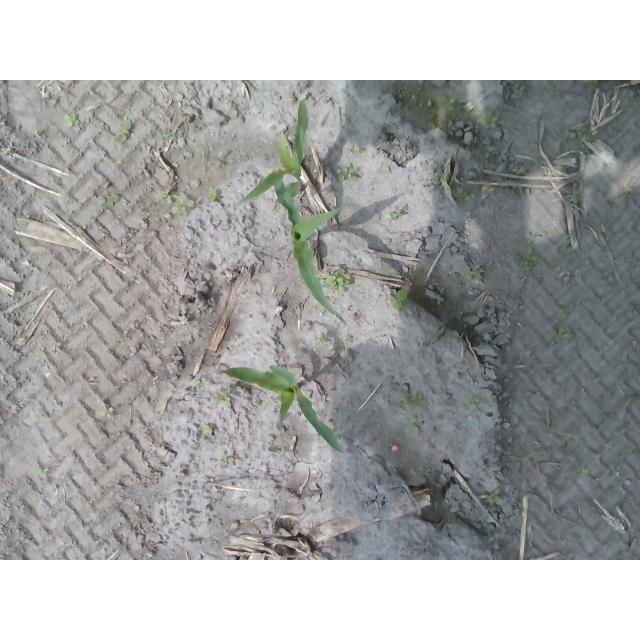Maize: (269, 173, 349, 327), (219, 362, 346, 456), (239, 100, 309, 208)
Weeds: (419, 88, 458, 128), (397, 391, 428, 433), (160, 188, 197, 216), (562, 126, 594, 154), (322, 266, 354, 290), (456, 265, 485, 288), (517, 246, 540, 270), (387, 286, 410, 310), (333, 164, 360, 184), (114, 119, 134, 143), (454, 185, 477, 203), (94, 398, 114, 418), (551, 328, 574, 344), (214, 388, 234, 405), (482, 111, 499, 129), (101, 193, 121, 208), (63, 112, 78, 129), (206, 188, 222, 202), (432, 171, 449, 184), (126, 319, 143, 332), (511, 83, 526, 97), (80, 376, 97, 387), (583, 80, 602, 89), (161, 131, 178, 141), (348, 146, 361, 159), (466, 396, 480, 408), (577, 467, 592, 477), (316, 334, 328, 346), (488, 494, 501, 505), (221, 456, 236, 465), (203, 423, 215, 434), (388, 209, 400, 219), (628, 86, 637, 98), (194, 378, 204, 388), (159, 445, 168, 455)
